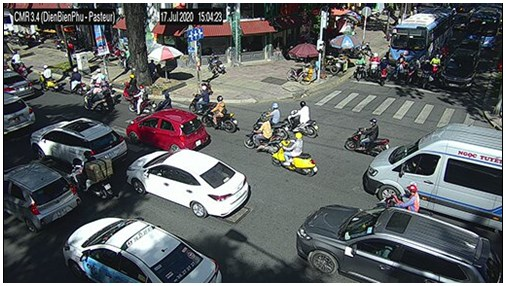xe_buyt: (388, 10, 455, 64)
xe_hoi: (295, 204, 501, 282), (126, 148, 249, 218), (4, 162, 81, 232), (29, 118, 128, 165), (125, 107, 210, 152), (439, 49, 481, 91), (4, 91, 36, 137), (4, 68, 36, 98)
xe_khach: (362, 123, 502, 231)
xe_may: (70, 149, 117, 199), (272, 133, 318, 177), (345, 119, 390, 157), (374, 184, 420, 215), (283, 101, 318, 138), (243, 114, 276, 153), (203, 96, 237, 133), (254, 101, 289, 135), (127, 84, 155, 116), (84, 83, 108, 115), (66, 66, 86, 96), (189, 85, 210, 112), (39, 65, 58, 92), (122, 75, 140, 102), (11, 52, 27, 75), (406, 57, 419, 85), (395, 54, 406, 84), (354, 53, 365, 80), (422, 59, 432, 88), (368, 52, 379, 78), (379, 57, 389, 85), (89, 68, 103, 88)
xe_taxi: (62, 216, 222, 282)
